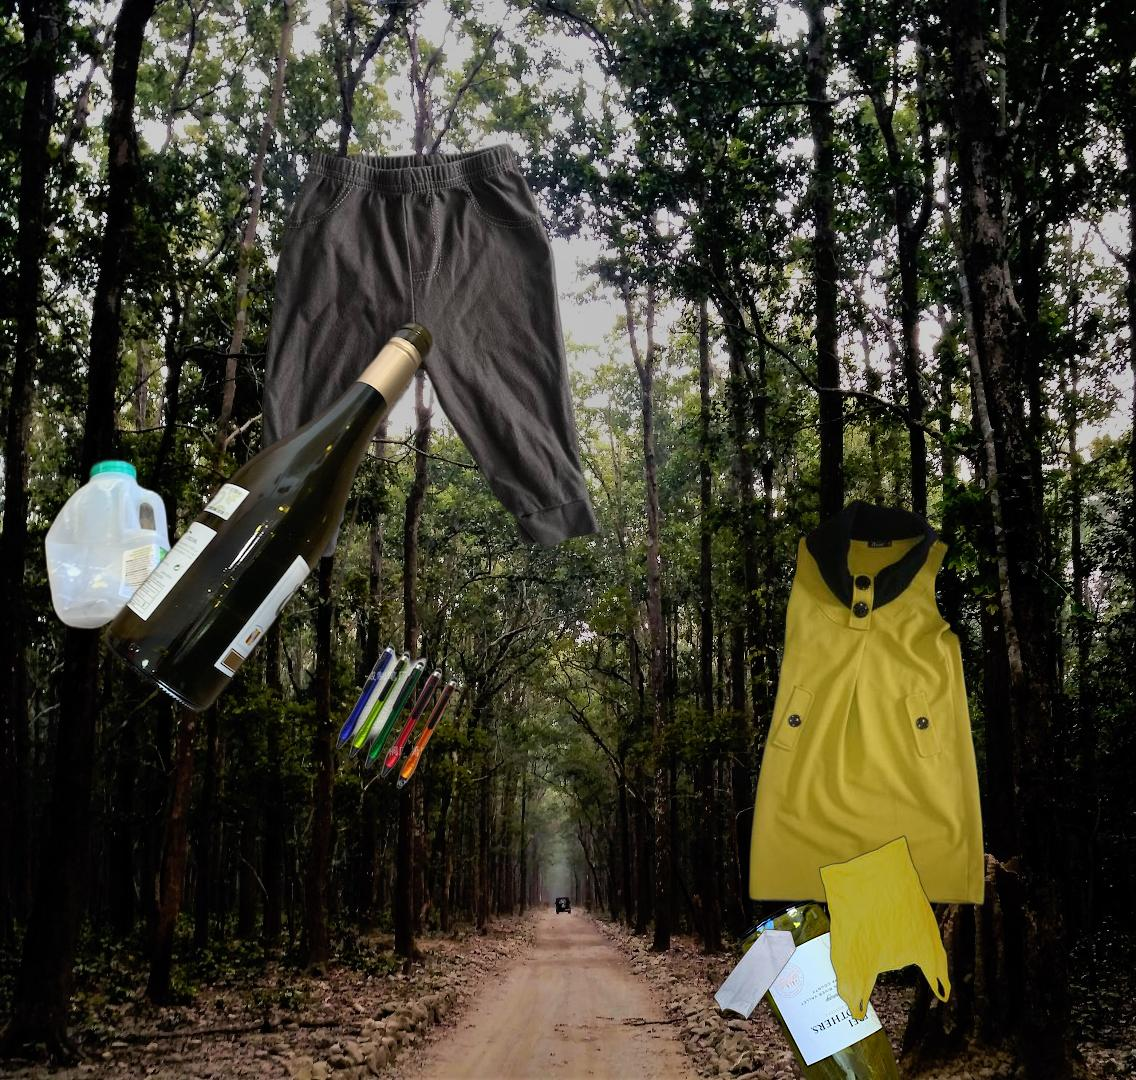clothes: (247, 139, 602, 562), (745, 494, 988, 911)
glass: (99, 317, 437, 719), (736, 894, 951, 1080)
penholder: (333, 642, 467, 792)
plastic-bag: (711, 833, 955, 1023)
plastic-bottles: (40, 454, 177, 636)
